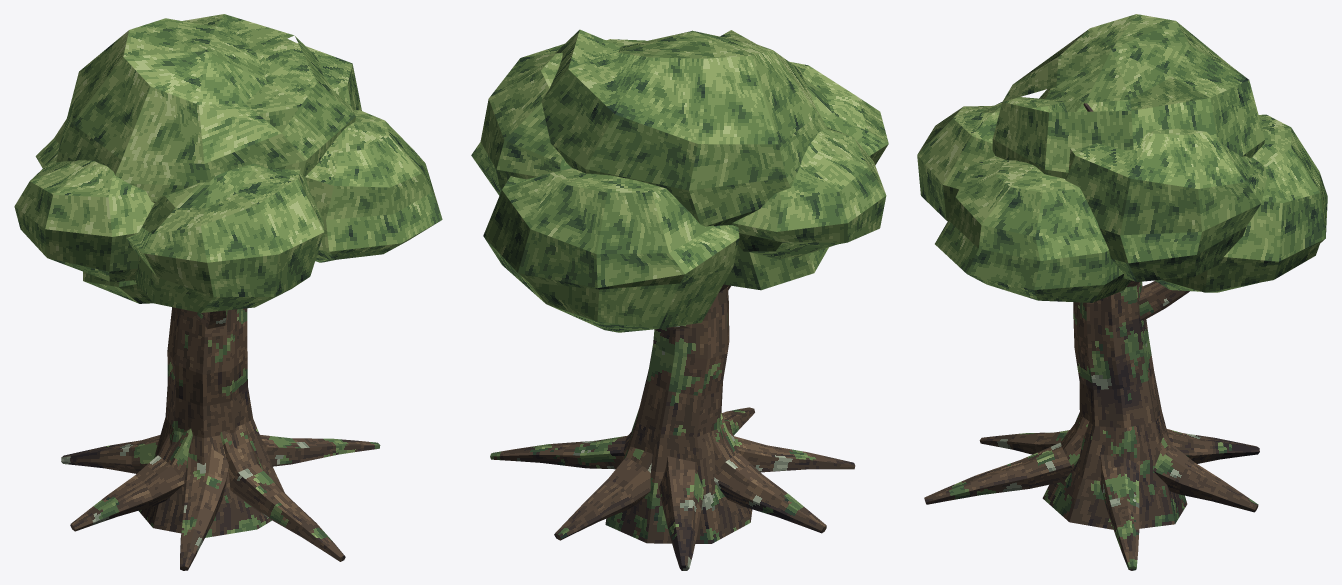
File: oak_b.glb
3 views of the same model, side by side, from view 1: azimuth 30°, elevation 25°; view 2: azimuth 150°, elevation 25°; view 3: azimuth 270°, elevation 25° (orthographic). The views are drawn at different scales.
Visible parts, largest first — view 1: crown_36, crown_27, trunk_1, crown_32, crown_22, crown_12, root_3, root_5, root_4, root_2, root_6, crown_38; view 2: crown_36, crown_17, trunk_1, crown_22, crown_12, root_5, crown_27, root_7, root_6, root_2, crown_38, root_4 (+1 smaller); view 3: crown_36, crown_12, crown_32, trunk_1, crown_17, crown_27, root_3, root_2, root_7, root_6, root_4, limb_13 (+1 smaller).
Part boxes in pixels (x1,y1,x2,y2): crown_36: [56, 14, 355, 202]; crown_27: [126, 163, 324, 312]; trunk_1: [138, 307, 284, 537]; crown_32: [305, 110, 442, 262]; crown_22: [14, 160, 154, 282]; crown_12: [245, 38, 361, 132]; root_3: [220, 424, 345, 561]; root_5: [70, 428, 192, 531]; root_4: [180, 443, 228, 570]; root_2: [260, 435, 380, 466]; root_6: [61, 435, 160, 473]; crown_38: [83, 271, 153, 303]; crown_36: [540, 29, 827, 226]; crown_17: [483, 168, 739, 332]; trunk_1: [605, 288, 752, 543]; crown_22: [732, 126, 886, 259]; crown_12: [471, 40, 633, 195]; root_5: [712, 413, 826, 533]; crown_27: [789, 61, 888, 165]; root_7: [554, 446, 652, 540]; root_6: [659, 456, 703, 570]; root_2: [490, 432, 630, 469]; crown_38: [723, 245, 828, 290]; root_4: [728, 430, 855, 472]; crown_36: [992, 14, 1264, 178]; crown_12: [1065, 128, 1266, 281]; crown_32: [935, 156, 1130, 302]; trunk_1: [1042, 281, 1187, 529]; crown_17: [1155, 114, 1327, 292]; crown_27: [917, 97, 1066, 221]; root_3: [924, 412, 1089, 504]; root_2: [1100, 454, 1139, 570]; root_7: [1153, 433, 1258, 512]; root_6: [1166, 429, 1259, 463]; root_4: [979, 430, 1069, 454]; limb_13: [1139, 281, 1189, 319].
Bounding box in the file's own units: 54.87 × 68.82 × 55.64.
1 material, 1 textured.
